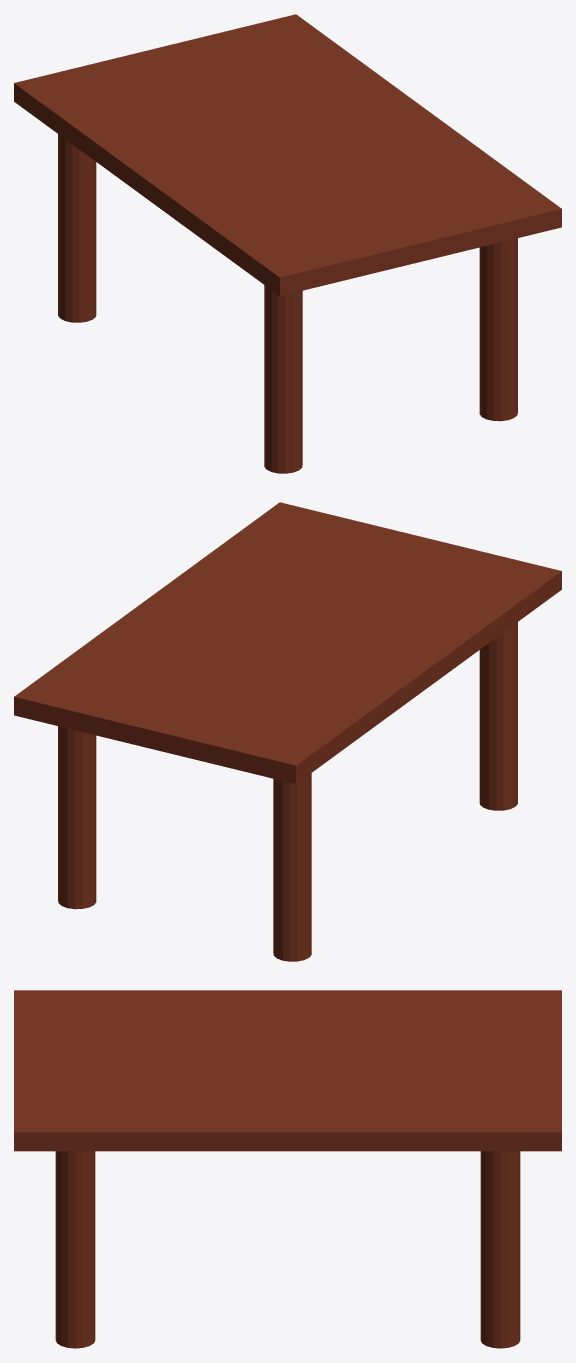
File: Desk.fbx
3 renders of one model, top to bottom at view 1: azimuth 30°, elevation 25°; view 2: azimuth 150°, elevation 25°; view 3: azimuth 270°, elevation 25°, orthographic. The views are drawn at different scales.
Parts seen in each view (by area): view 1: Cube; view 2: Cube; view 3: Cube.
Part boxes in pixels (x1,y1,x2,y2): Cube: (14, 14, 561, 473); Cube: (14, 502, 561, 961); Cube: (14, 990, 561, 1348).
Bounding box in the file's own units: 725 × 535 × 1183.
